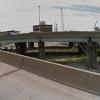Bridge: (3, 26, 94, 51)
